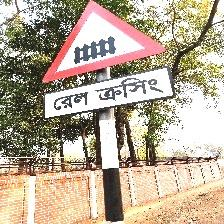Rail-crossing: (40, 0, 173, 122)
